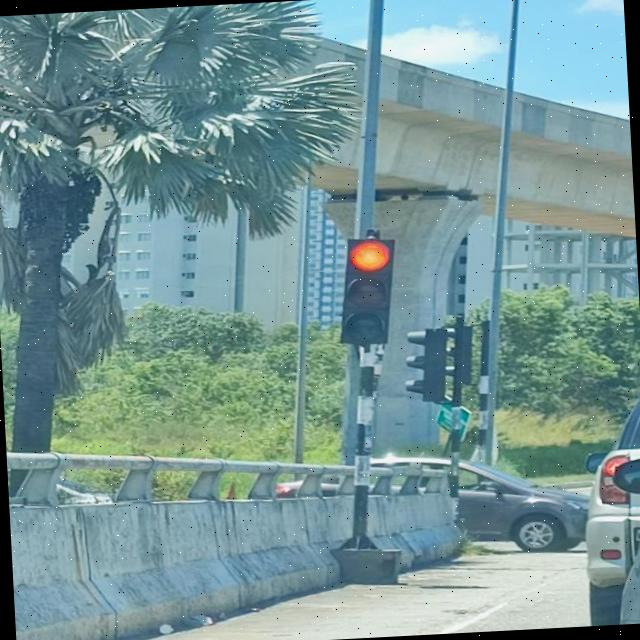red_light: (334, 238, 402, 346)
